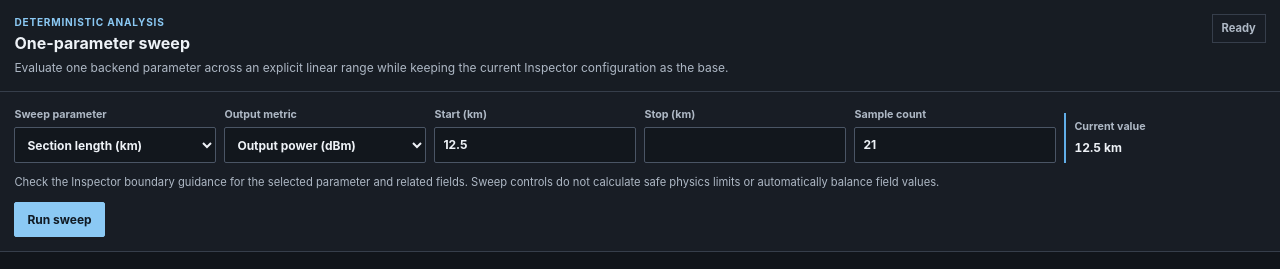
it: SweepWorkspace › rejects a malformed successful response
Type "20" into the number field labelled "Stop (km)" at [745, 145], box 644,127 -> 846,163
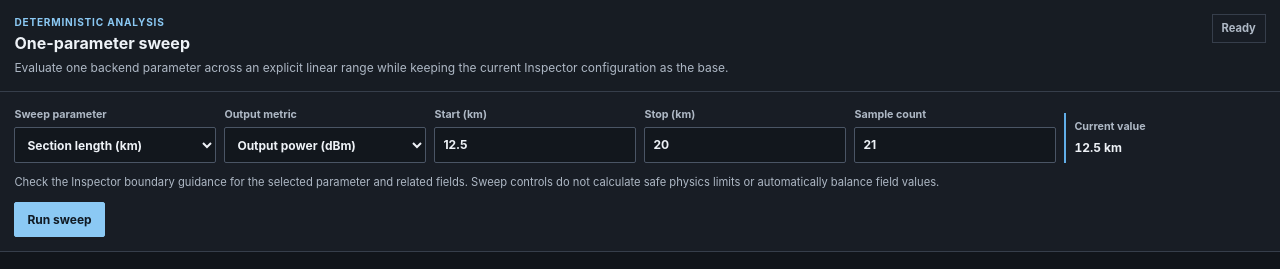
Replace the text in the number field labelled "Sample count" with "3" at [955, 145], box 854,127 -> 1056,163
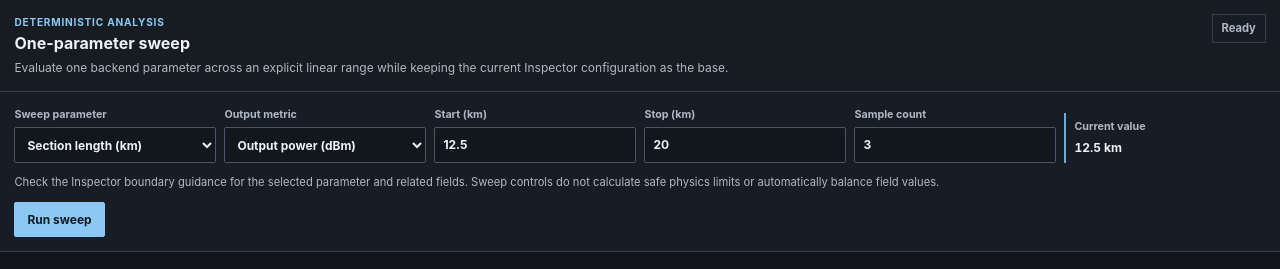
Click the button "Run sweep" at [60, 220], box 14,202 -> 105,237
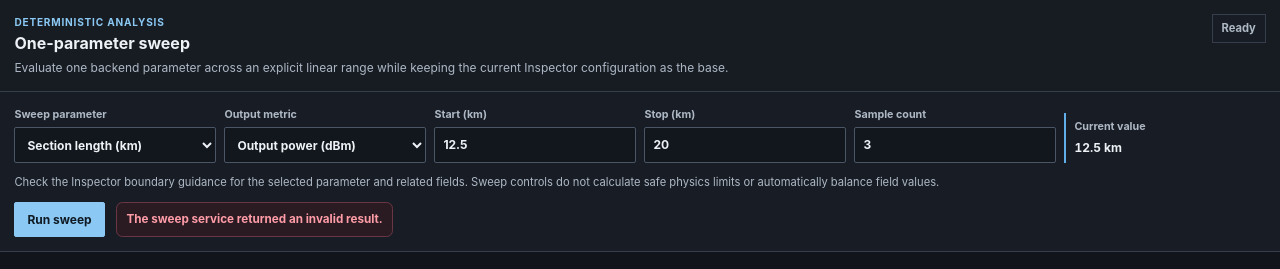
expect the message "The sweep service returned an invalid result." is shown: met, box 116,202 -> 393,237
